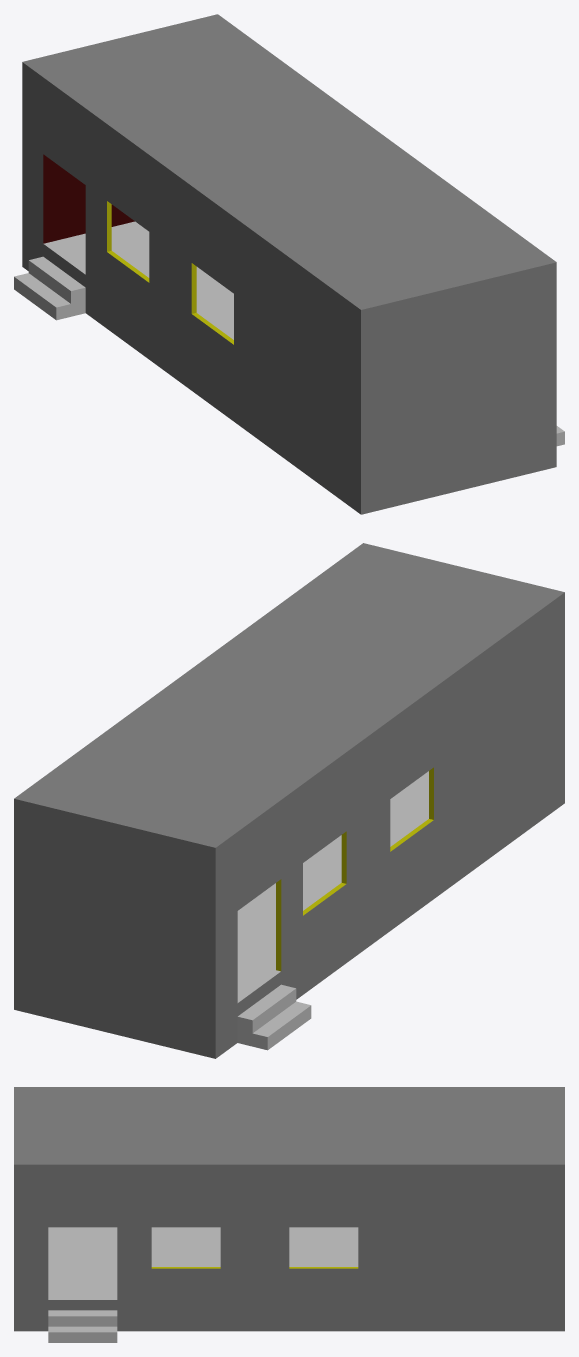
Rendered from Trailer.fbx.
3 views of the same model, one above another, from view 1: azimuth 30°, elevation 25°; view 2: azimuth 150°, elevation 25°; view 3: azimuth 270°, elevation 25° (orthographic). The views are drawn at different scales.
Visible parts, largest first — view 1: trailer; view 2: trailer; view 3: trailer.
Part boxes in pixels (bbox=[...]): trailer: bbox=[14, 14, 564, 514]; trailer: bbox=[14, 543, 564, 1058]; trailer: bbox=[14, 1087, 564, 1342].
Bounding box in the file's own units: 520 × 400 × 1200.
